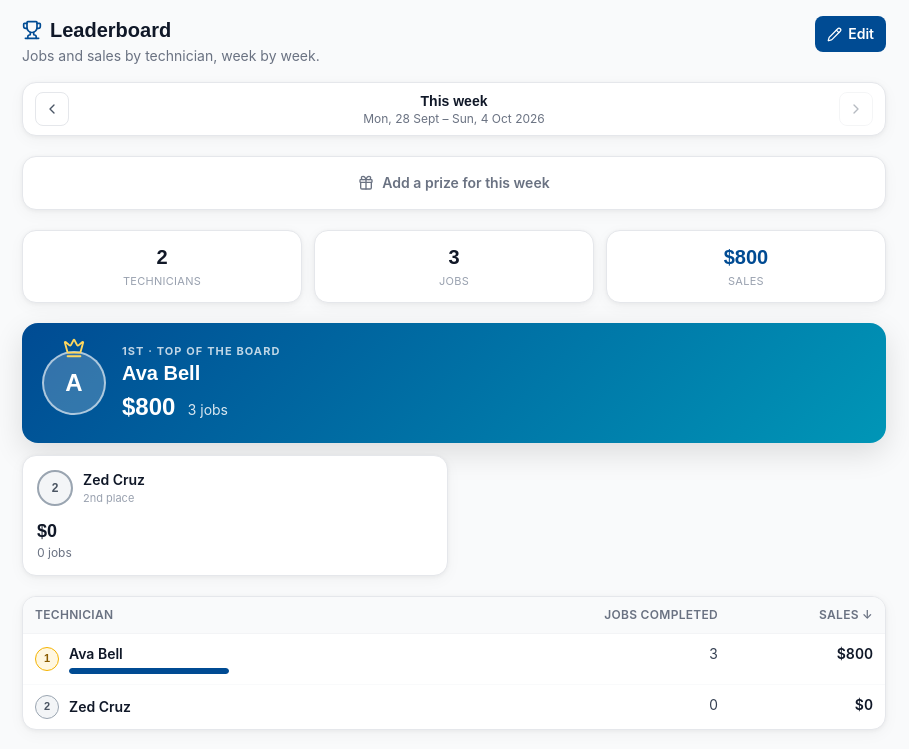
Test: LeaderboardPage — manager editing › saves nothing when the manager opens and closes the editor untouched
This screenshot has width=909, height=749.
Click the button "Edit".
click(851, 34)  # box [815, 16, 886, 52]
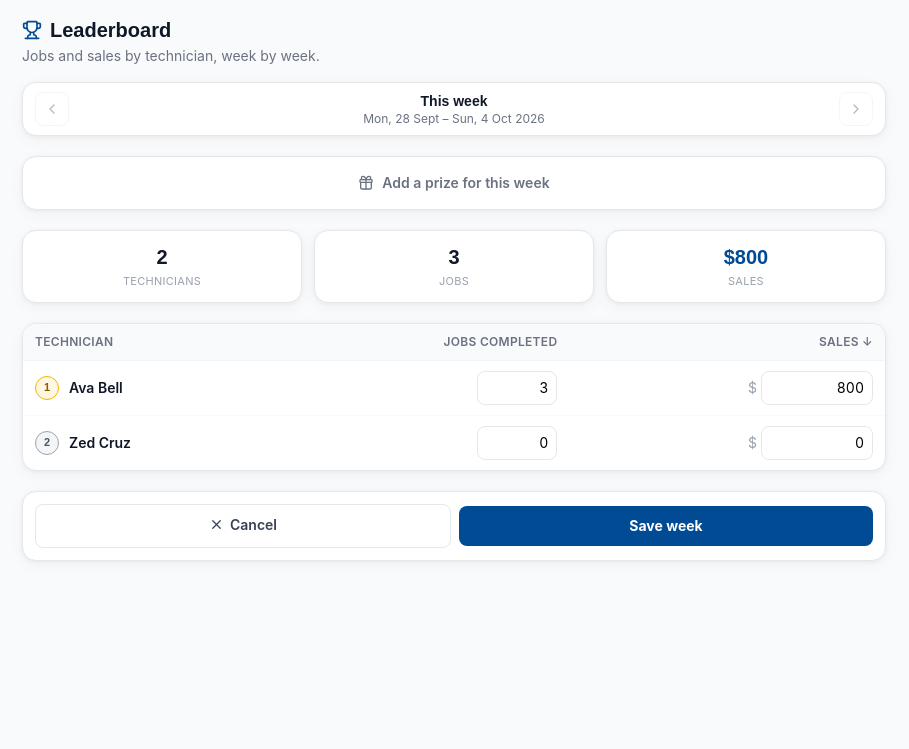
Click the button "Save week".
click(666, 526)  # box [459, 506, 873, 546]
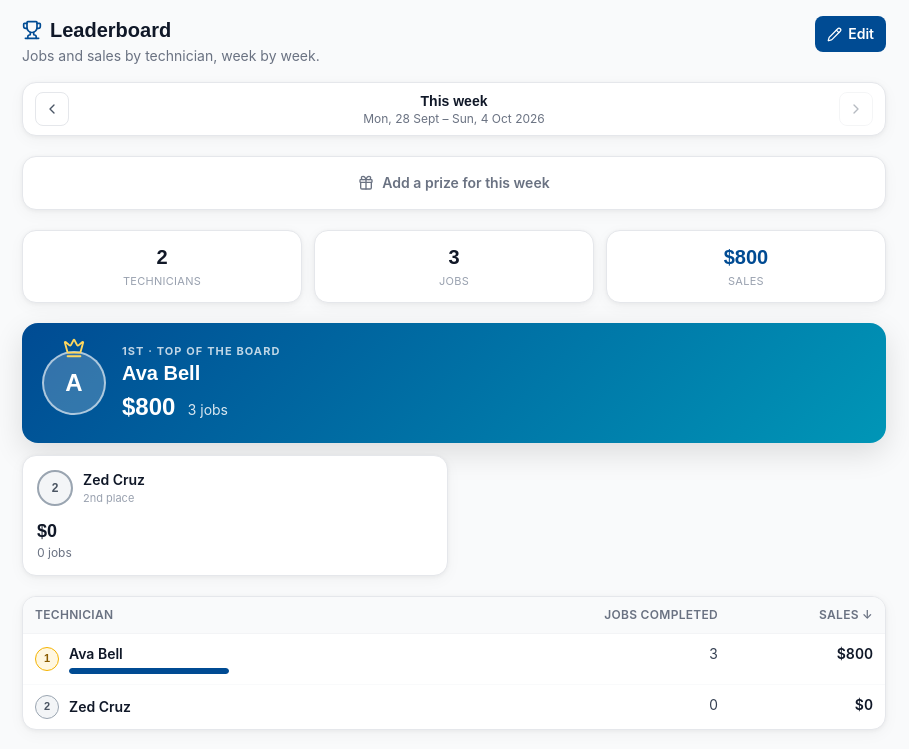
Expected: the button "Save week" is gone
